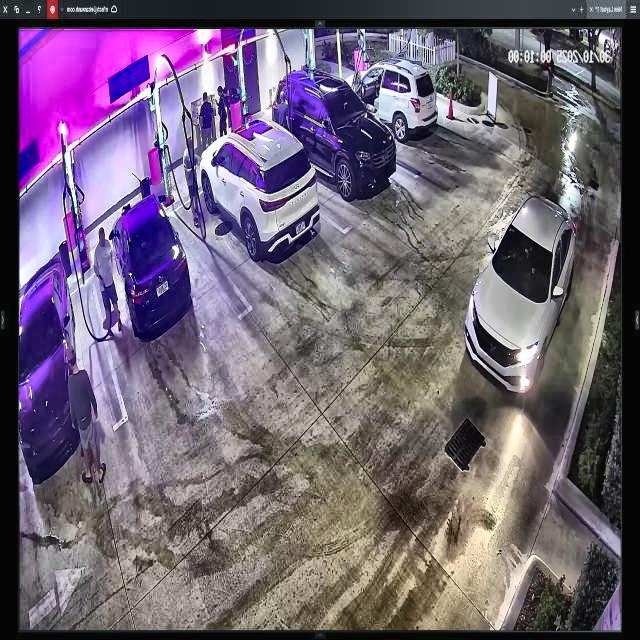Car: (464, 195, 577, 393), (202, 119, 318, 264), (272, 70, 398, 188), (111, 195, 191, 335)
